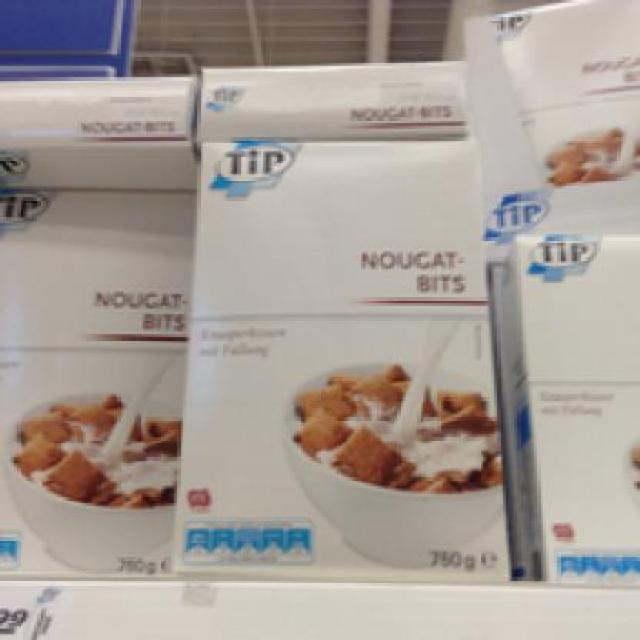Cereal: (168, 135, 514, 574), (0, 181, 195, 572)
